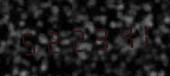five: (17, 24, 38, 59)
four: (106, 18, 127, 53)
one: (128, 17, 149, 51)
three: (84, 20, 105, 54)
two: (62, 21, 83, 56), (39, 23, 60, 57)
